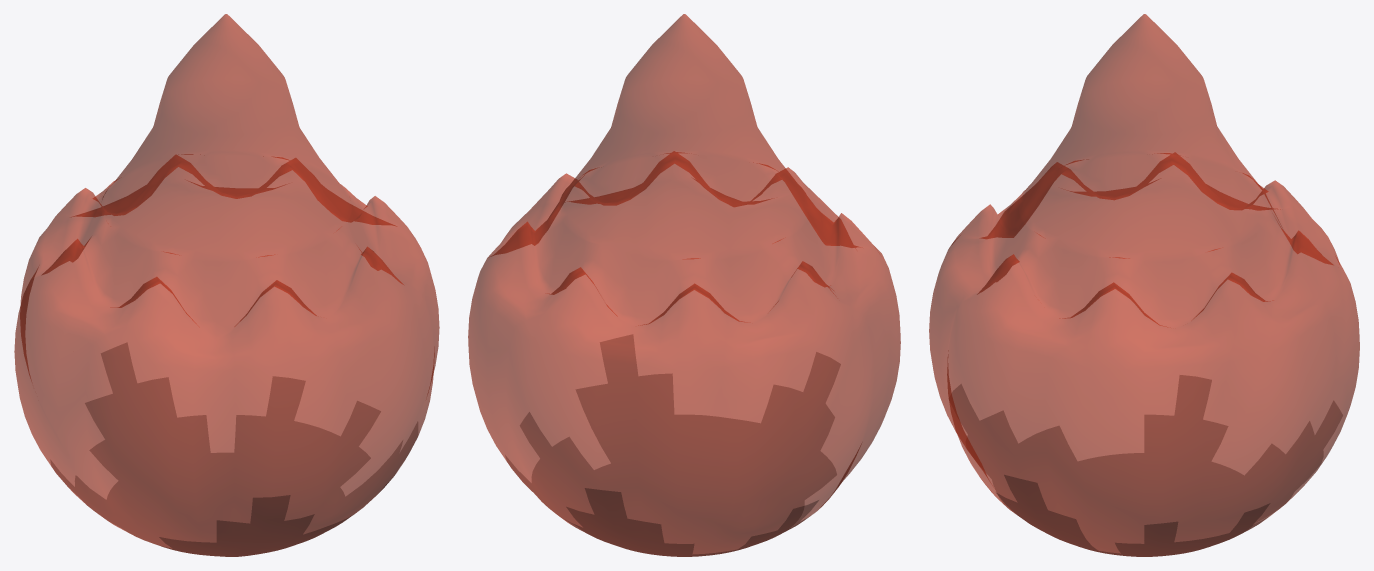
The model's file is Flame2.FBX.
The picture shows the model from 3 angles, left to right: view 1: azimuth 30°, elevation 25°; view 2: azimuth 150°, elevation 25°; view 3: azimuth 270°, elevation 25°; orthographic projection.
Visible parts, largest first — view 1: Sphere002; view 2: Sphere002; view 3: Sphere002.
Part boxes in pixels (x1,y1,x2,y2): Sphere002: (14, 14, 439, 556); Sphere002: (468, 14, 900, 556); Sphere002: (929, 14, 1359, 556).
Bounding box in the file's own units: 0.9856 × 1.32 × 0.9856.
